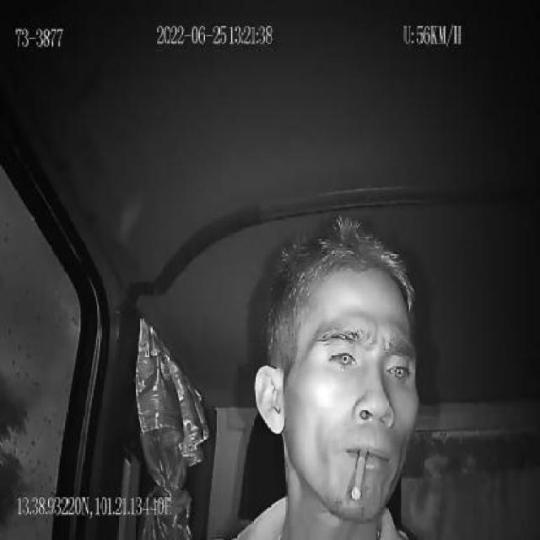smoking: (348, 446, 368, 502)
